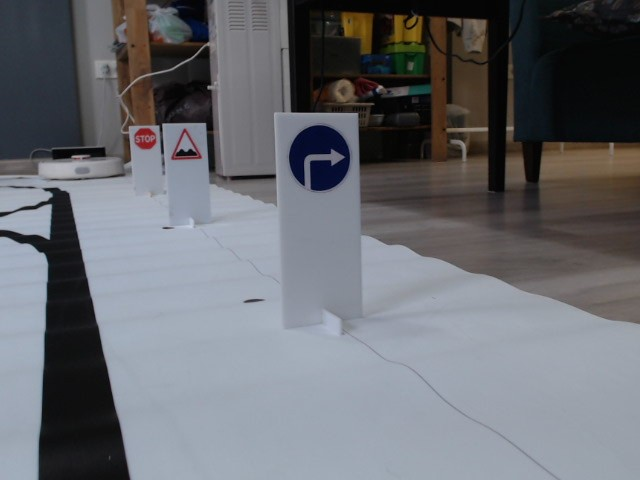Nerov: (172, 128, 201, 161)
Right: (287, 121, 351, 193)
Stop: (133, 127, 157, 150)
